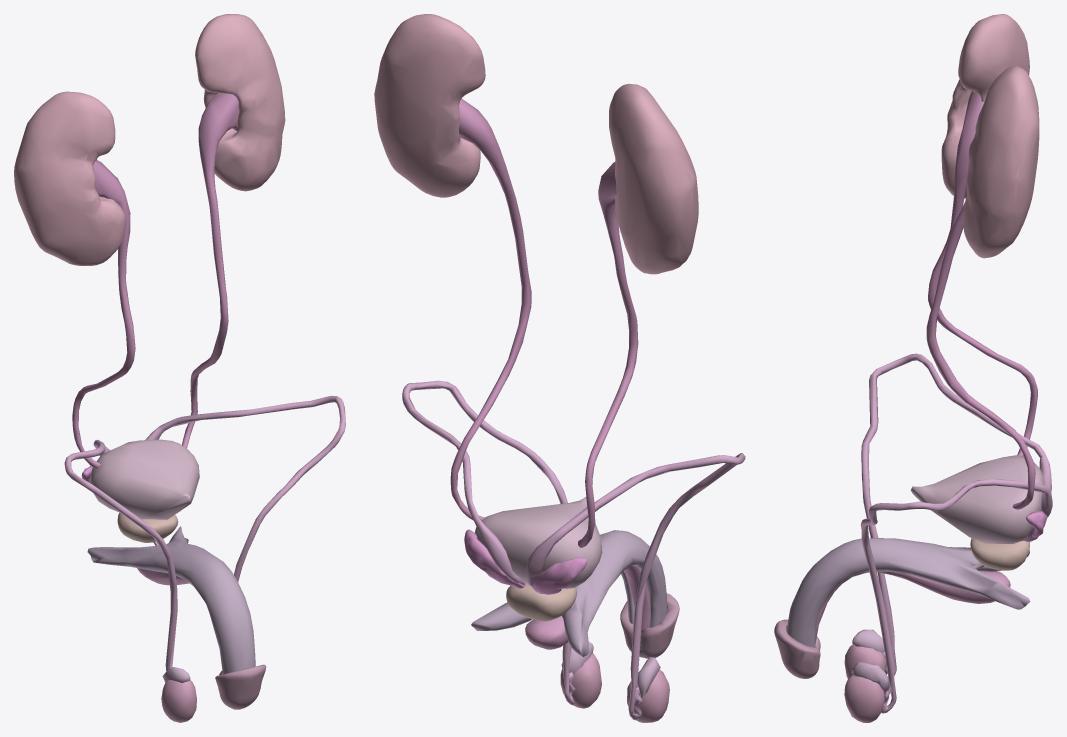
The model's file is body-urogenital.lod0.glb.
3 renders of one model, left to right at view 1: azimuth 30°, elevation 25°; view 2: azimuth 150°, elevation 25°; view 3: azimuth 270°, elevation 25°, orthographic. The views are drawn at different scales.
Parts seen in each view (by area): view 1: kidney-r, kidney-l, corpus-cavernosum-of-penis, urinary-bladder, ureter-l, ureter-r, deferent-duct-l, deferent-duct-r, glans-penis, testis-r, prostate; view 2: kidney-l, kidney-r, corpus-cavernosum-of-penis, urinary-bladder, deferent-duct-r, ureter-l, deferent-duct-l, ureter-r, prostate, corpus-spongiosum-of-penis, glans-penis, testis-l (+3 smaller); view 3: kidney-l, corpus-cavernosum-of-penis, urinary-bladder, kidney-r, deferent-duct-r, ureter-r, deferent-duct-l, ureter-l, glans-penis, testis-l, corpus-spongiosum-of-penis, prostate (+4 smaller).
Boxes of the visible parts, left/top/right/bottom form: kidney-r: left=14, top=91, right=125, bottom=265; kidney-l: left=195, top=14, right=285, bottom=191; corpus-cavernosum-of-penis: left=87, top=526, right=255, bottom=674; urinary-bladder: left=90, top=439, right=199, bottom=519; ureter-l: left=182, top=93, right=238, bottom=448; ureter-r: left=72, top=160, right=135, bottom=468; deferent-duct-l: left=145, top=395, right=345, bottom=581; deferent-duct-r: left=64, top=440, right=177, bottom=671; glans-penis: left=215, top=664, right=266, bottom=709; testis-r: left=161, top=679, right=196, bottom=722; prostate: left=117, top=512, right=178, bottom=542; kidney-l: left=374, top=14, right=485, bottom=197; kidney-r: left=609, top=83, right=698, bottom=274; corpus-cavernosum-of-penis: left=471, top=530, right=666, bottom=656; urinary-bladder: left=474, top=497, right=602, bottom=588; deferent-duct-r: left=526, top=453, right=745, bottom=720; ureter-l: left=450, top=98, right=531, bottom=520; deferent-duct-l: left=402, top=380, right=575, bottom=705; ureter-r: left=578, top=162, right=638, bottom=547; prostate: left=506, top=582, right=576, bottom=621; corpus-spongiosum-of-penis: left=525, top=565, right=650, bottom=649; glans-penis: left=620, top=593, right=679, bottom=658; testis-l: left=560, top=653, right=601, bottom=708; kidney-l: left=963, top=66, right=1039, bottom=258; corpus-cavernosum-of-penis: left=786, top=538, right=1030, bottom=647; urinary-bladder: left=910, top=455, right=1044, bottom=544; kidney-r: left=941, top=14, right=1029, bottom=198; deferent-duct-r: left=861, top=353, right=1051, bottom=676; ureter-r: left=928, top=91, right=1037, bottom=456; deferent-duct-l: left=860, top=479, right=1052, bottom=713; ureter-l: left=926, top=202, right=1035, bottom=509; glans-penis: left=774, top=619, right=820, bottom=678; testis-l: left=844, top=674, right=884, bottom=722; corpus-spongiosum-of-penis: left=815, top=571, right=1010, bottom=643; prostate: left=970, top=538, right=1029, bottom=570.
Size of the model in its own units: 0.1901 by 0.4007 by 0.1483.
